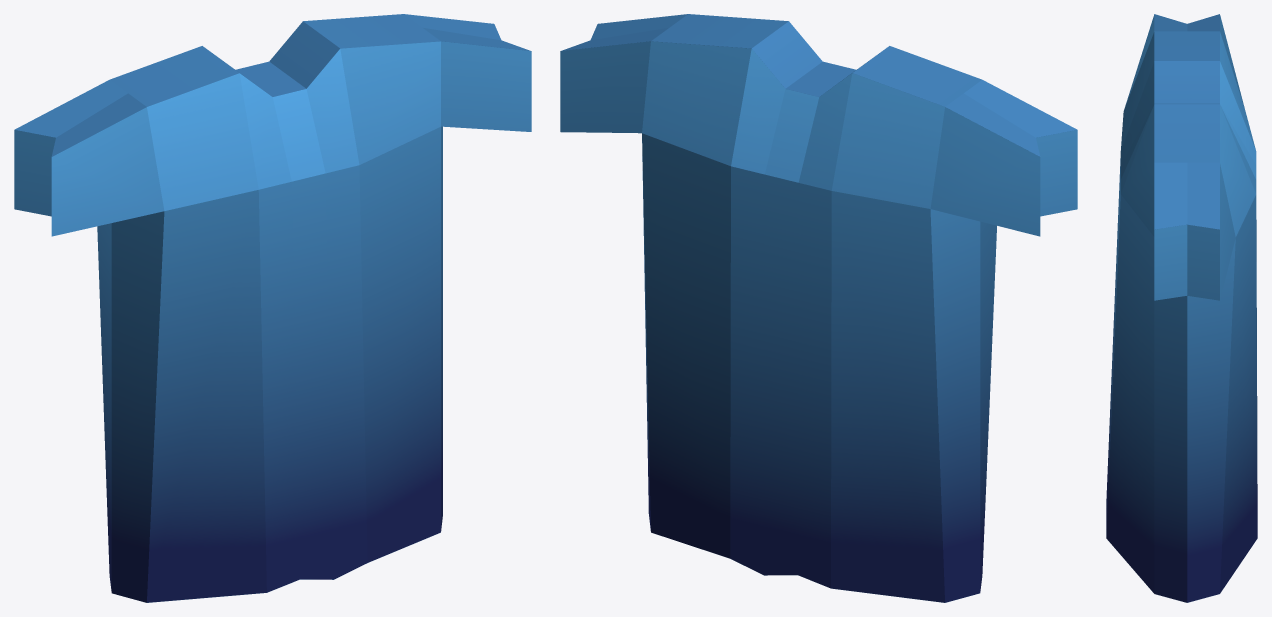
Rendered from T-shirt.glb.
3 renders of one model, left to right at view 1: azimuth 30°, elevation 25°; view 2: azimuth 150°, elevation 25°; view 3: azimuth 270°, elevation 25°, orthographic. The views are drawn at different scales.
Visible parts, largest first — view 1: Plane; view 2: Plane; view 3: Plane.
Part boxes in pixels (x1,y1,x2,y2): Plane: [14, 14, 531, 602]; Plane: [560, 14, 1077, 602]; Plane: [1106, 14, 1257, 602].
Size of the model in its own units: 3.26 by 3.3 by 1.01.
1 material, 1 textured.
